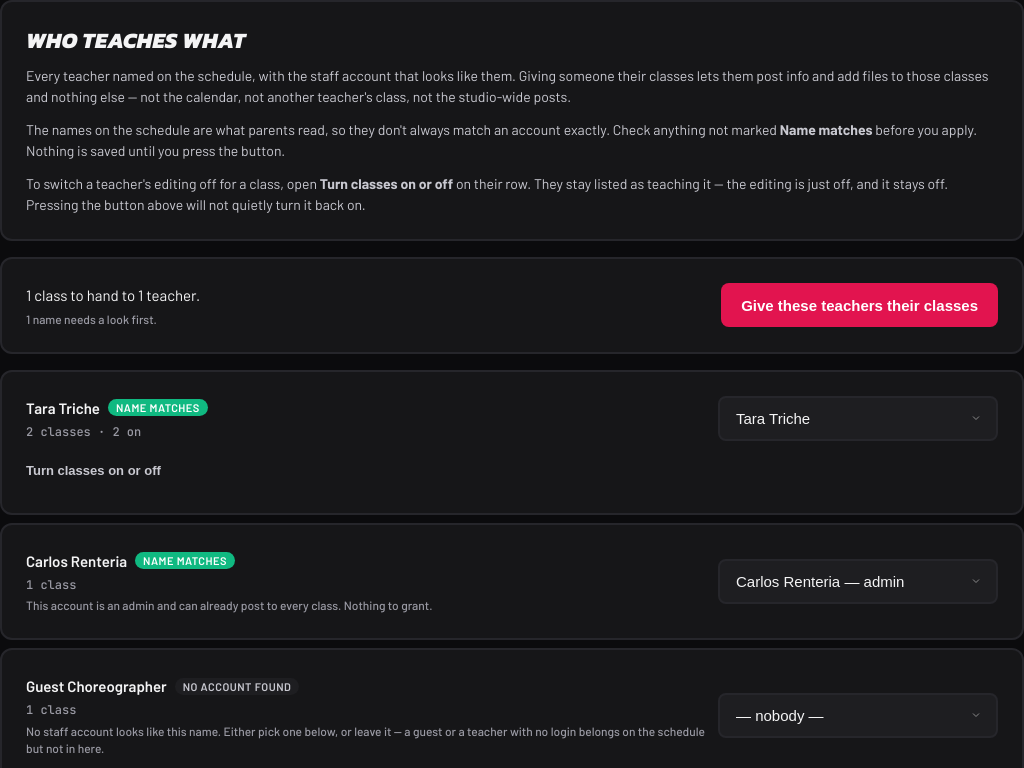
Test: switching a class off for one teacher › lists the classes they hold, each with a switch that is on
Expected: the dropdown named "Staff account for Tara Triche" is shown, [718, 396, 998, 441]
Click the button "Turn classes on or off" at (101, 471), box [26, 453, 177, 489]
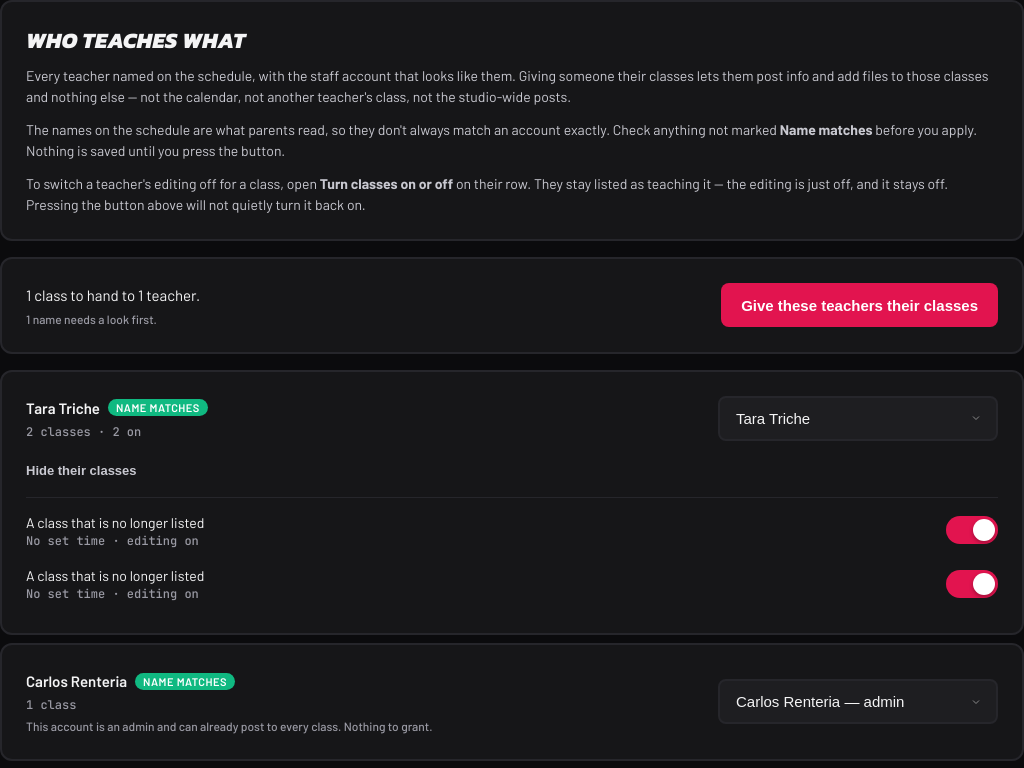
Now the number of switches is 2, box [946, 516, 998, 544]; [946, 570, 998, 598]
Now the 1st switch is checked, box [946, 516, 998, 544]
Now the 2nd switch is checked, box [946, 570, 998, 598]
